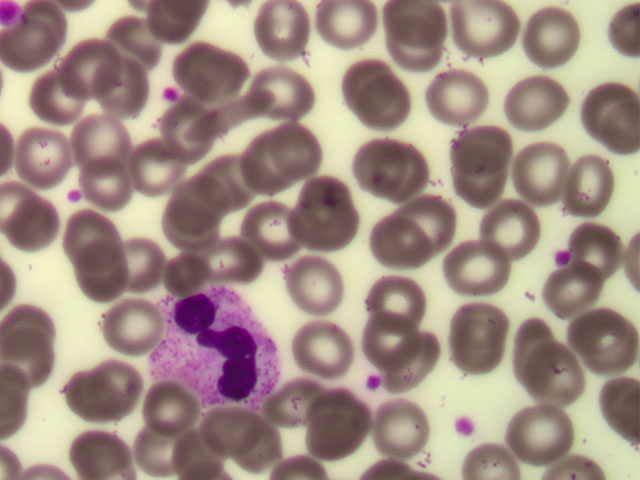Platelets: (1, 1, 28, 25), (456, 412, 478, 440), (360, 370, 380, 391), (163, 87, 186, 105), (553, 250, 572, 264), (65, 189, 82, 203)
RBC: (524, 4, 584, 67), (510, 71, 570, 134), (434, 64, 494, 127), (343, 64, 403, 127), (350, 136, 410, 199), (384, 136, 444, 199), (451, 109, 511, 172), (451, 148, 511, 211), (509, 141, 569, 204), (550, 146, 610, 209), (577, 80, 637, 143), (571, 219, 631, 282), (536, 267, 596, 330), (447, 236, 507, 299), (483, 200, 543, 263), (415, 195, 475, 258), (373, 210, 433, 273), (294, 249, 354, 312), (297, 195, 357, 258), (254, 197, 314, 260), (291, 310, 351, 373), (365, 260, 425, 323), (363, 305, 423, 368), (384, 321, 444, 384), (450, 279, 510, 342), (440, 322, 500, 385), (491, 306, 551, 369), (527, 341, 587, 404), (574, 305, 634, 368), (512, 401, 572, 464), (375, 394, 435, 457), (307, 411, 367, 474), (272, 363, 332, 426), (208, 400, 268, 463), (168, 417, 228, 480), (143, 381, 203, 444), (55, 363, 115, 426), (87, 350, 147, 413), (105, 297, 165, 360), (1, 319, 60, 382), (63, 426, 130, 480), (36, 71, 89, 123), (59, 42, 112, 94), (111, 17, 164, 69), (99, 65, 152, 117), (2, 29, 55, 81), (183, 36, 236, 88), (166, 104, 219, 156), (132, 140, 185, 192), (70, 113, 123, 165), (91, 159, 144, 211), (18, 125, 71, 177), (6, 199, 59, 251), (52, 204, 105, 256), (78, 241, 131, 293), (113, 232, 166, 284), (143, 239, 196, 291), (201, 233, 254, 285), (166, 203, 219, 255), (174, 175, 227, 227), (206, 150, 259, 202), (245, 133, 298, 185), (276, 119, 329, 171), (258, 58, 311, 110), (261, 9, 314, 61), (388, 25, 441, 77), (390, 4, 443, 56), (454, 3, 507, 55), (319, 1, 372, 52)
WBC: (166, 291, 280, 403)
